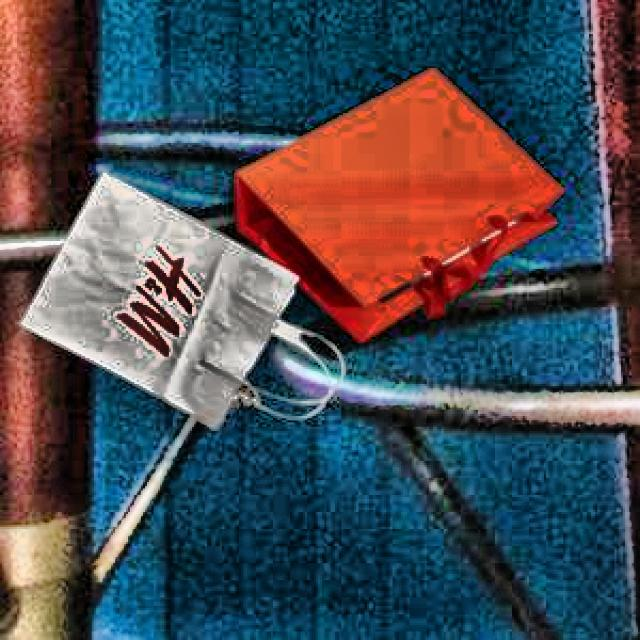Paper-bag: (222, 57, 564, 342), (16, 174, 350, 439)
